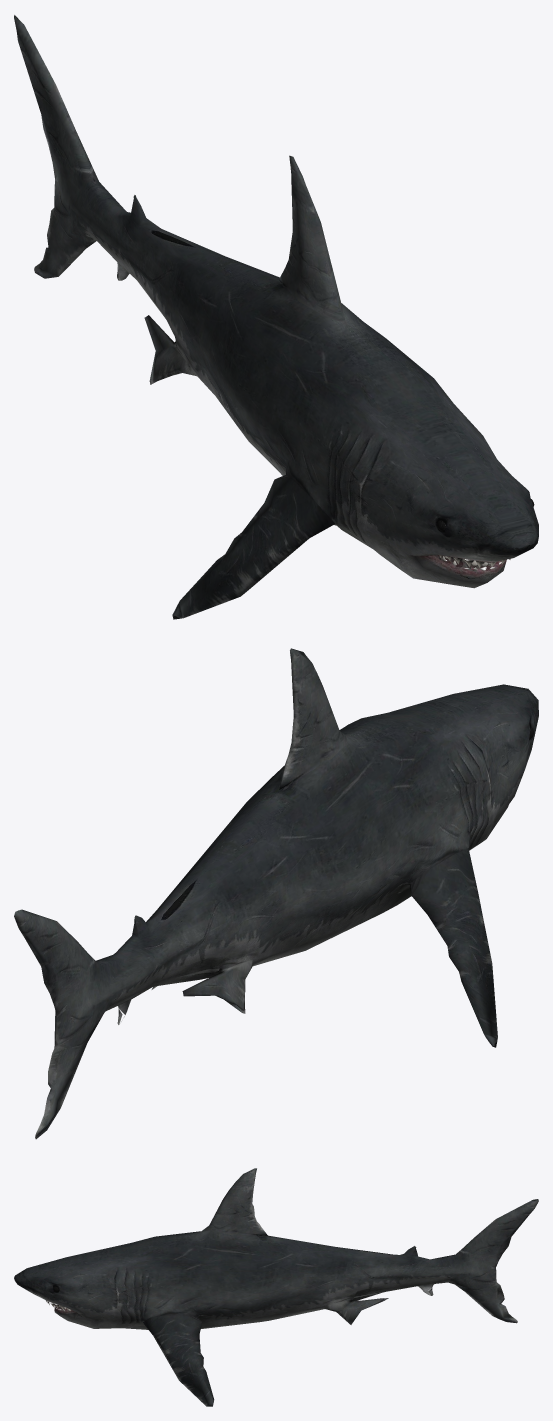
The model's file is shark_low_poly.obj.
3 renders of one model, top to bottom at view 1: azimuth 30°, elevation 25°; view 2: azimuth 150°, elevation 25°; view 3: azimuth 270°, elevation 25°, orthographic. The views are drawn at different scales.
Parts seen in each view (by area): view 1: ref.001_ref_greatwhiteshark; view 2: ref.001_ref_greatwhiteshark; view 3: ref.001_ref_greatwhiteshark.
Part boxes in pixels (<box>): ref.001_ref_greatwhiteshark: <box>14,15,538,619</box>; ref.001_ref_greatwhiteshark: <box>14,648,538,1139</box>; ref.001_ref_greatwhiteshark: <box>14,1168,538,1406</box>.
Bounding box in the file's own units: 8.7 × 10.14 × 24.1.
3 materials, 3 textured.
